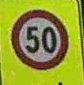limite 50: (10, 8, 68, 70)
